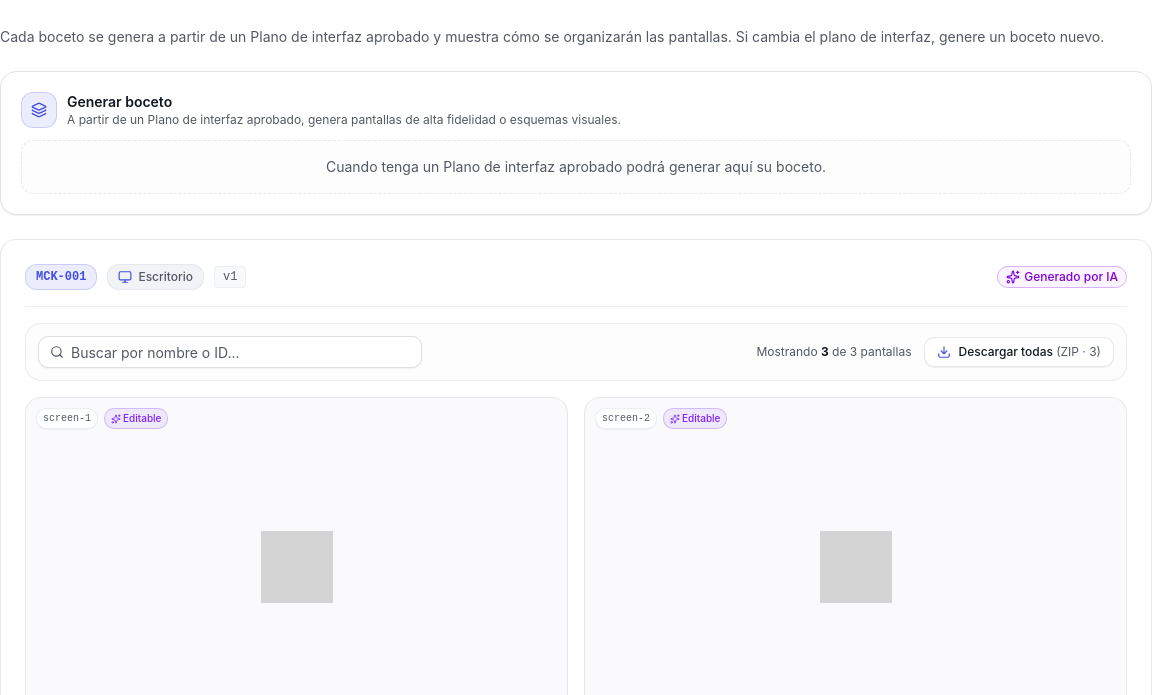
MockupsPage screen gallery › filters screens in real time using the search input and restores them when cleared
Expected: the text "Mostrando 3 de 3 pantallas" is shown, [756,344,912,360]
In the search field named "Buscar pantalla en el boceto": (230, 352) [38,336,422,368], type "Catálogo"
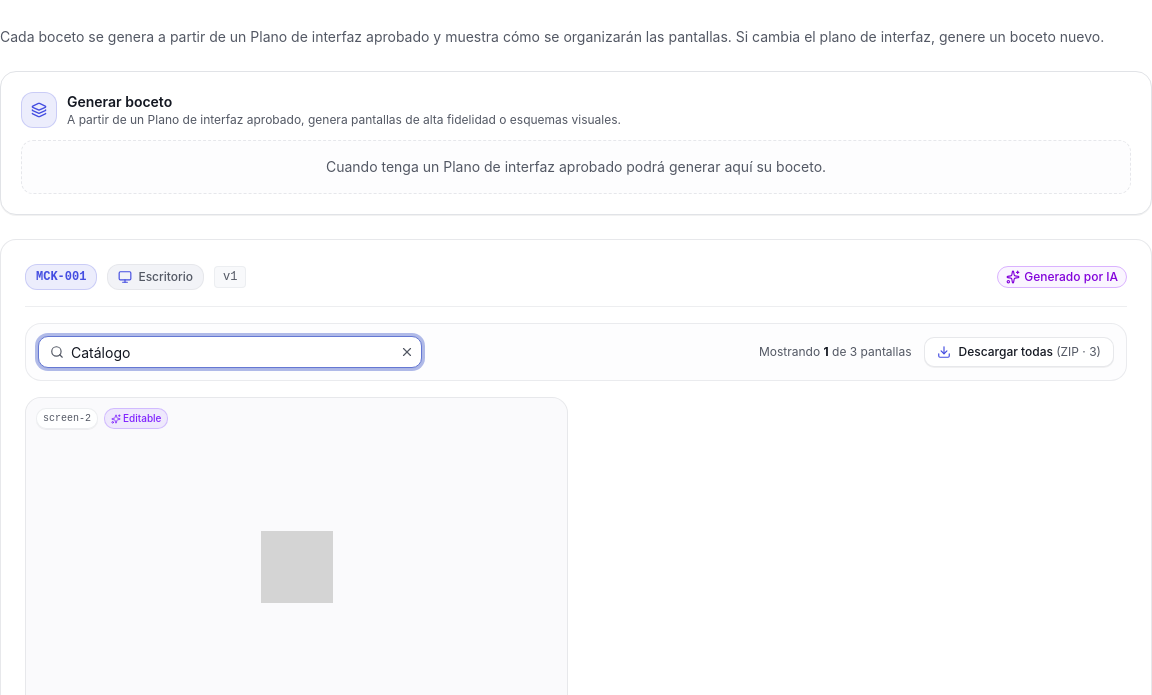
Result: the text "Mostrando 1 de 3 pantallas" is shown at [759,344,912,360]
Click the button named "Borrar búsqueda": (407, 352) [400,345,414,359]
(page scrolled)
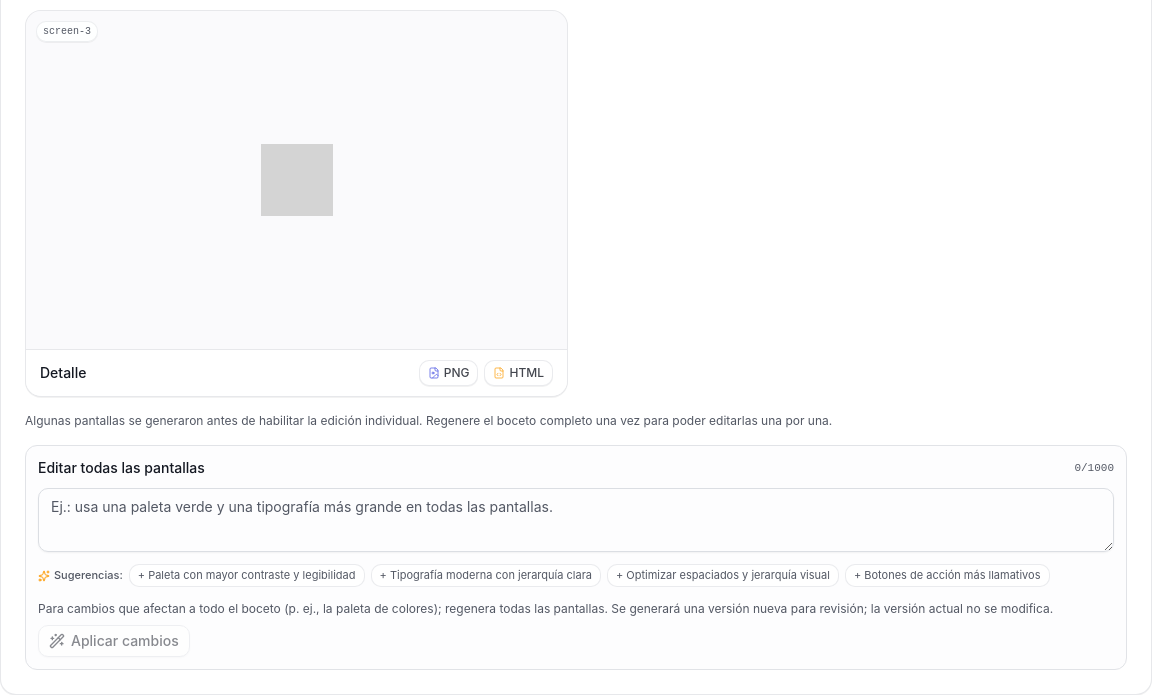
Result: the text "Detalle" is shown at [40,363,86,383]
